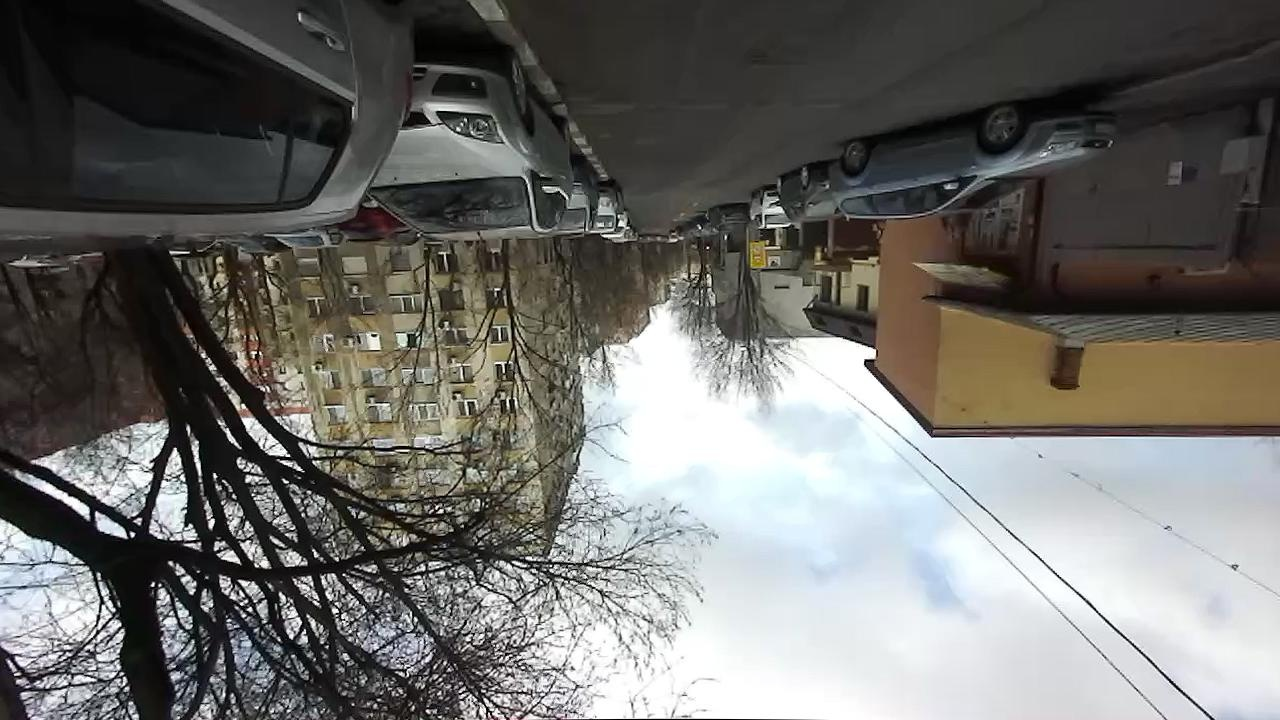pothole: (745, 39, 803, 72)
